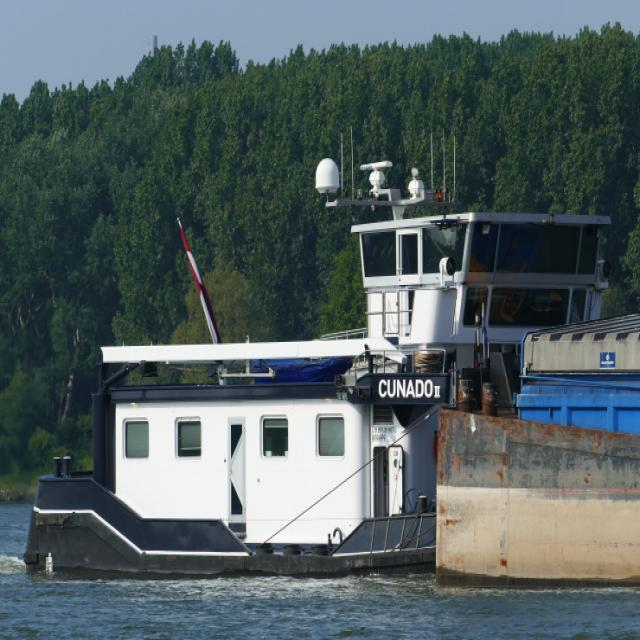tugboat: (15, 157, 606, 599)
